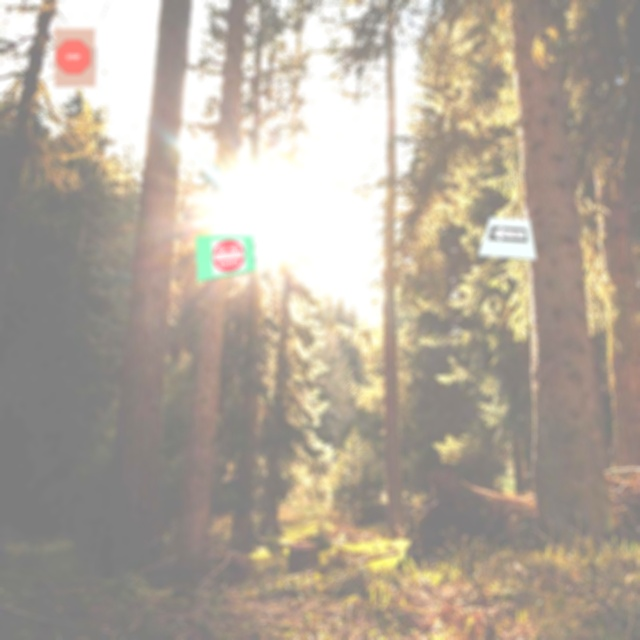DO_NOT_ENTER: (206, 236, 250, 275)
ONE_WAY_ left: (487, 226, 528, 242)
STOP: (56, 40, 90, 74)
